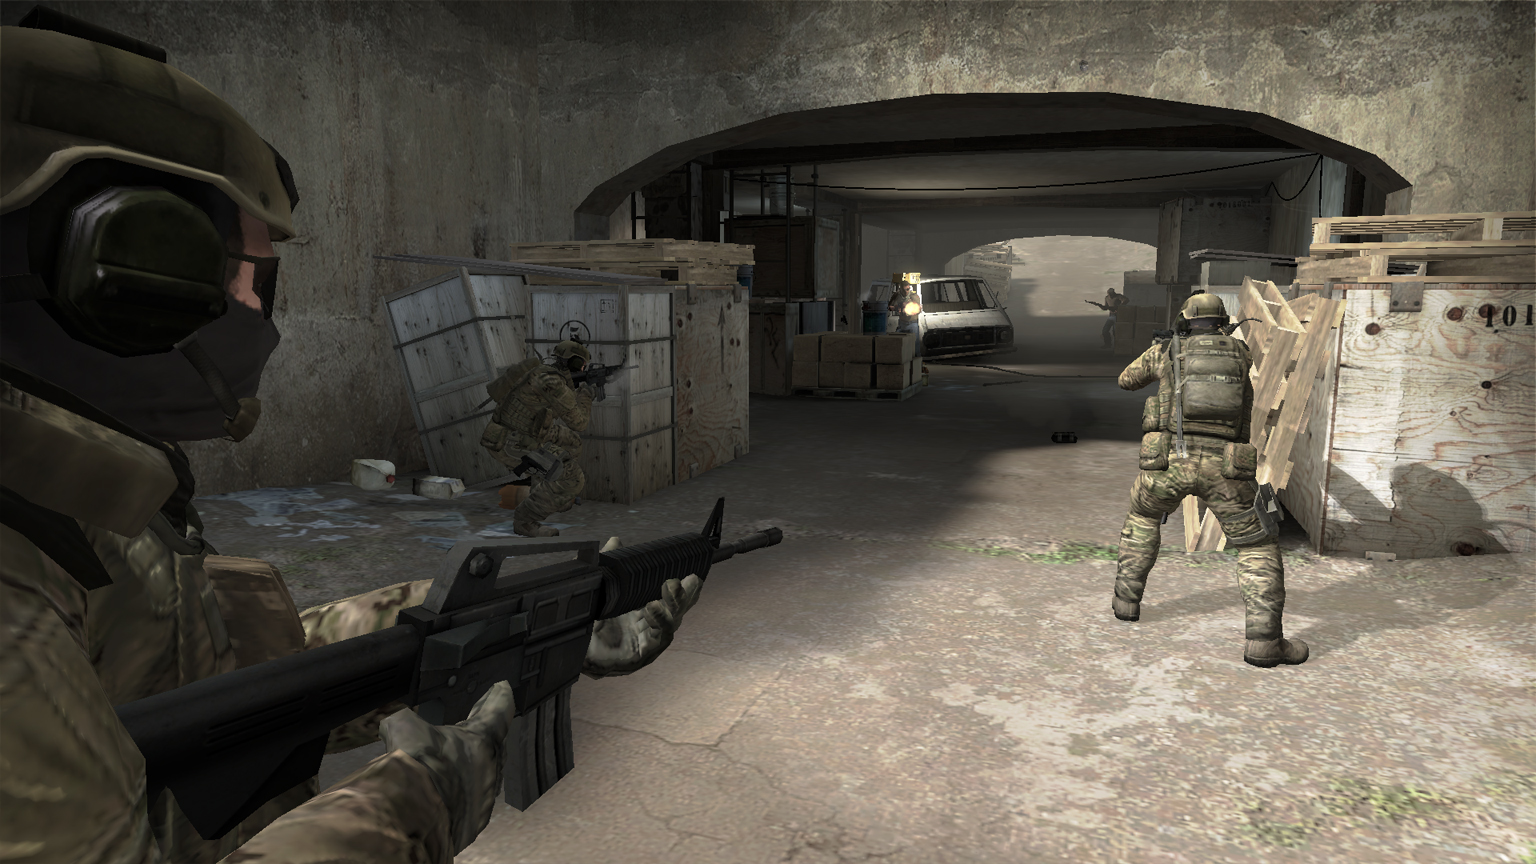c: (1110, 290, 1311, 666), (475, 340, 601, 543)
ch: (1, 9, 289, 452), (1169, 290, 1239, 347), (548, 337, 595, 385)
t: (892, 281, 920, 351), (1093, 286, 1125, 341)
th: (890, 275, 916, 297)
